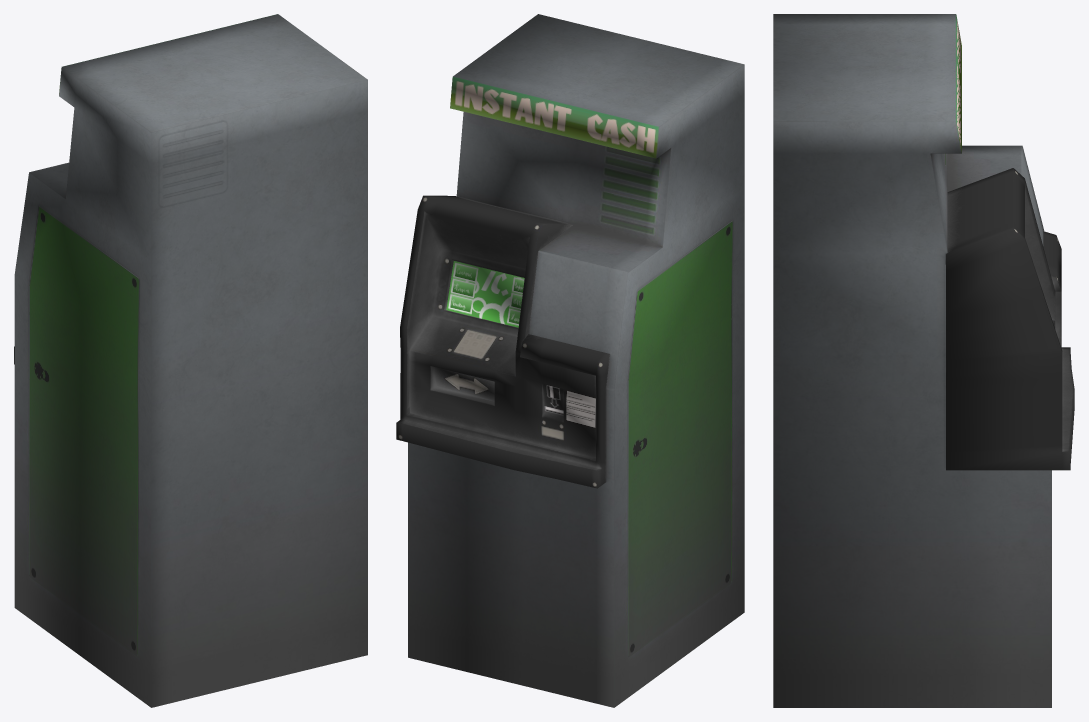
File: atm1.fbx
3 views of the same model, side by side, from view 1: azimuth 30°, elevation 25°; view 2: azimuth 150°, elevation 25°; view 3: azimuth 270°, elevation 25° (orthographic). The views are drawn at different scales.
Visible parts, largest first — view 1: Sketchfab Model; view 2: Sketchfab Model; view 3: Sketchfab Model.
Boxes of the visible parts, bbox=[...] form: Sketchfab Model: bbox=[14, 14, 367, 707]; Sketchfab Model: bbox=[396, 14, 744, 707]; Sketchfab Model: bbox=[773, 14, 1074, 707].
Bounding box in the file's own units: 79.98 × 200 × 93.19.
Materials: 1 (1 with a texture image).
